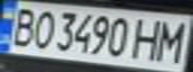0: (106, 14, 136, 58)
3: (51, 9, 78, 53)
4: (72, 10, 93, 54)
9: (87, 11, 112, 56)
B: (3, 4, 42, 47)
H: (127, 16, 166, 61)
M: (151, 17, 190, 62)
O: (27, 7, 57, 51)
